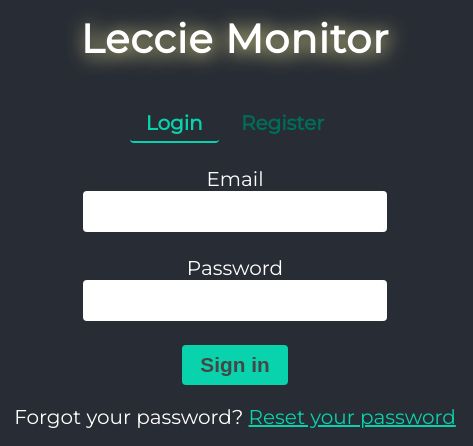
Test: App Flow › It should allow a user to register › Should warn about filling in email without password
The image size is (473, 446).
Click the link to "/auth/register" at [283, 123], box [241, 111, 324, 135]
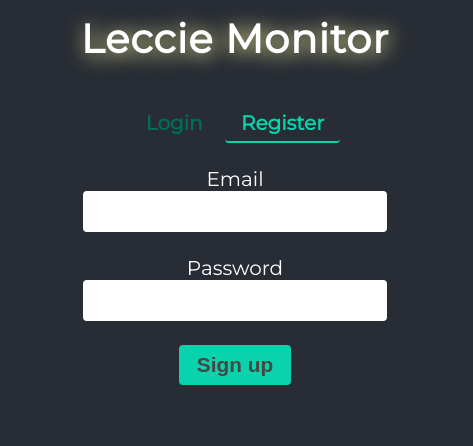
Type "bob@bob.com" into the field with id "email" at [235, 212], box [83, 191, 387, 232]
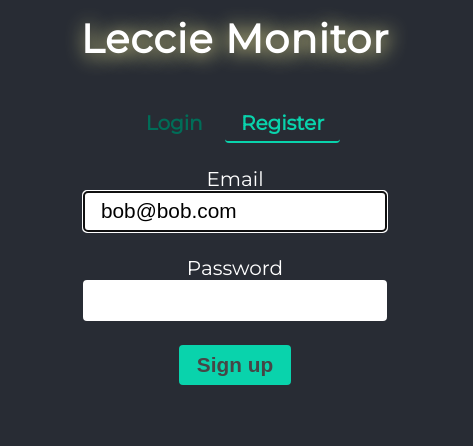
Click the submit button at [235, 366], box [179, 345, 291, 386]
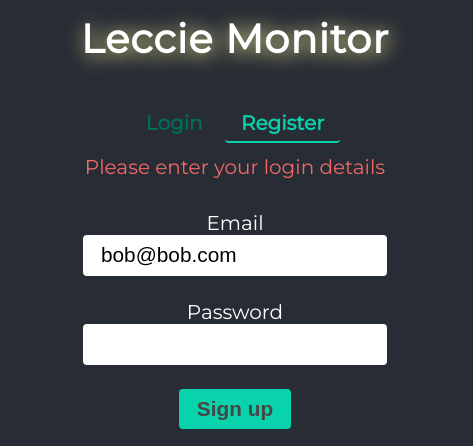
Expected: the text with test id "login-errors" reads "Please enter your login details", [81, 155, 390, 179]
